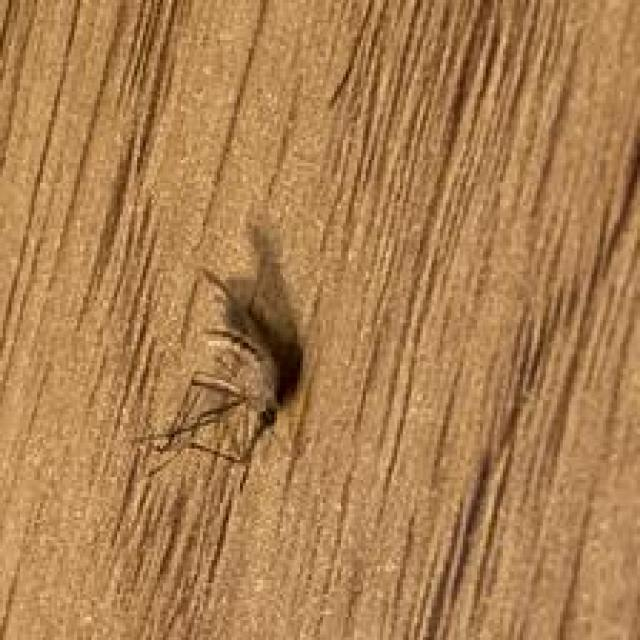Culex: (143, 225, 306, 484)
